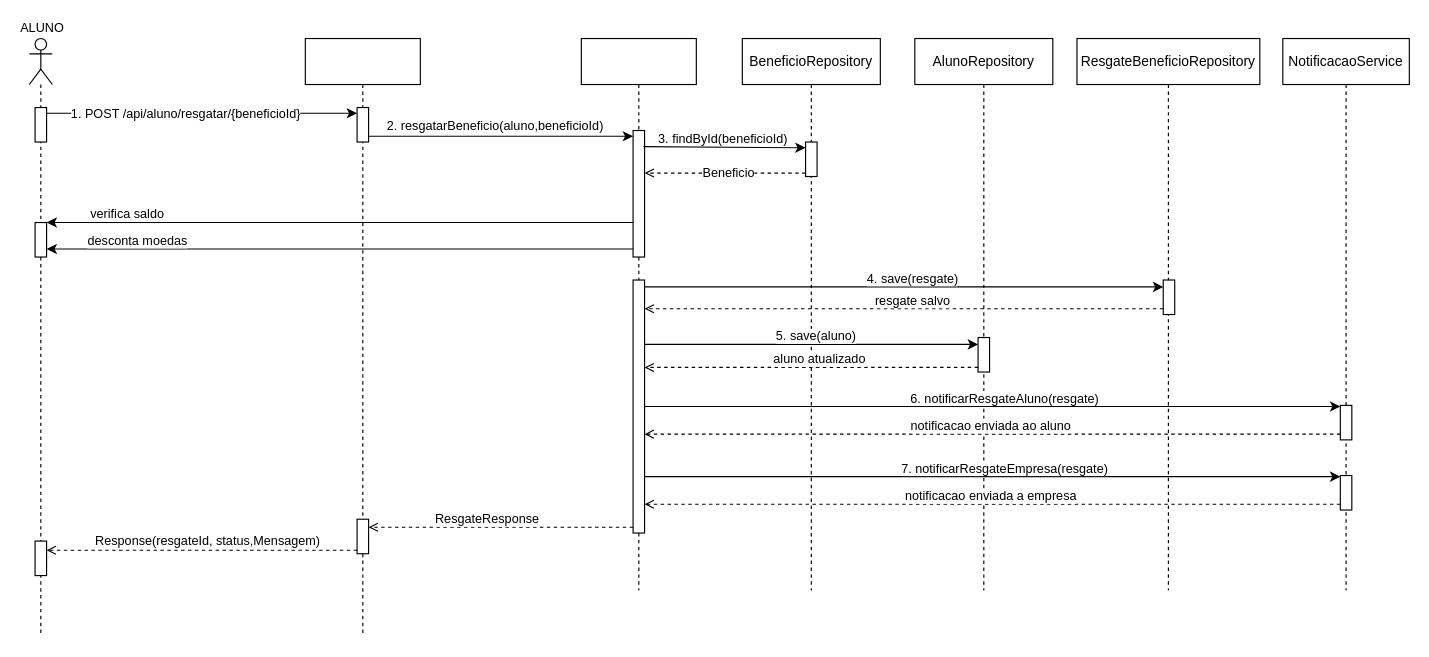
The diagram is 1429 pixels wide and 657 high, and some of its shapes have lost their labels. The shapes that lost their labels are listed below. From the top down, each one's box as (x1, y1, x2, y2) in pixels, then its label:
(580, 37, 696, 591): ResgateService
(304, 37, 420, 637): AlunoController
